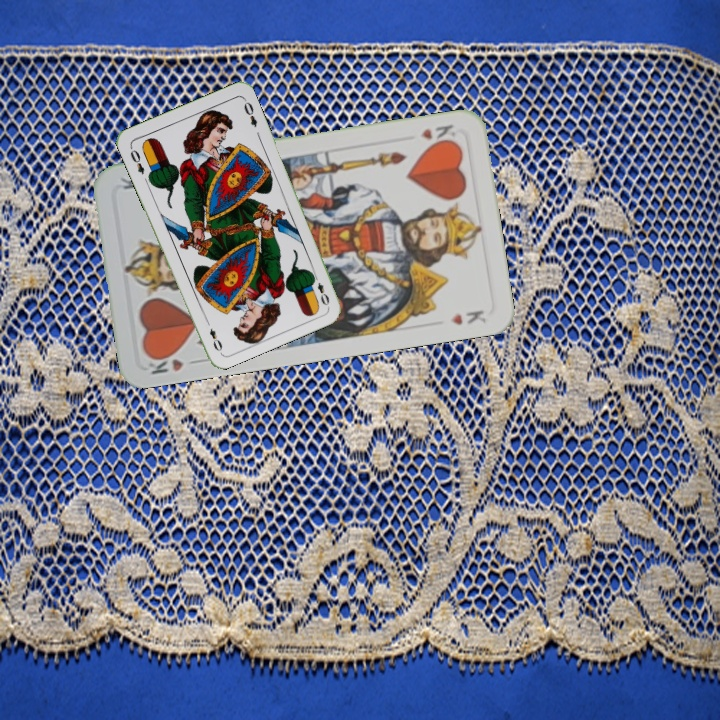EO: (309, 270, 332, 308), (126, 143, 147, 177)
HK: (143, 347, 203, 377), (416, 120, 461, 149)
